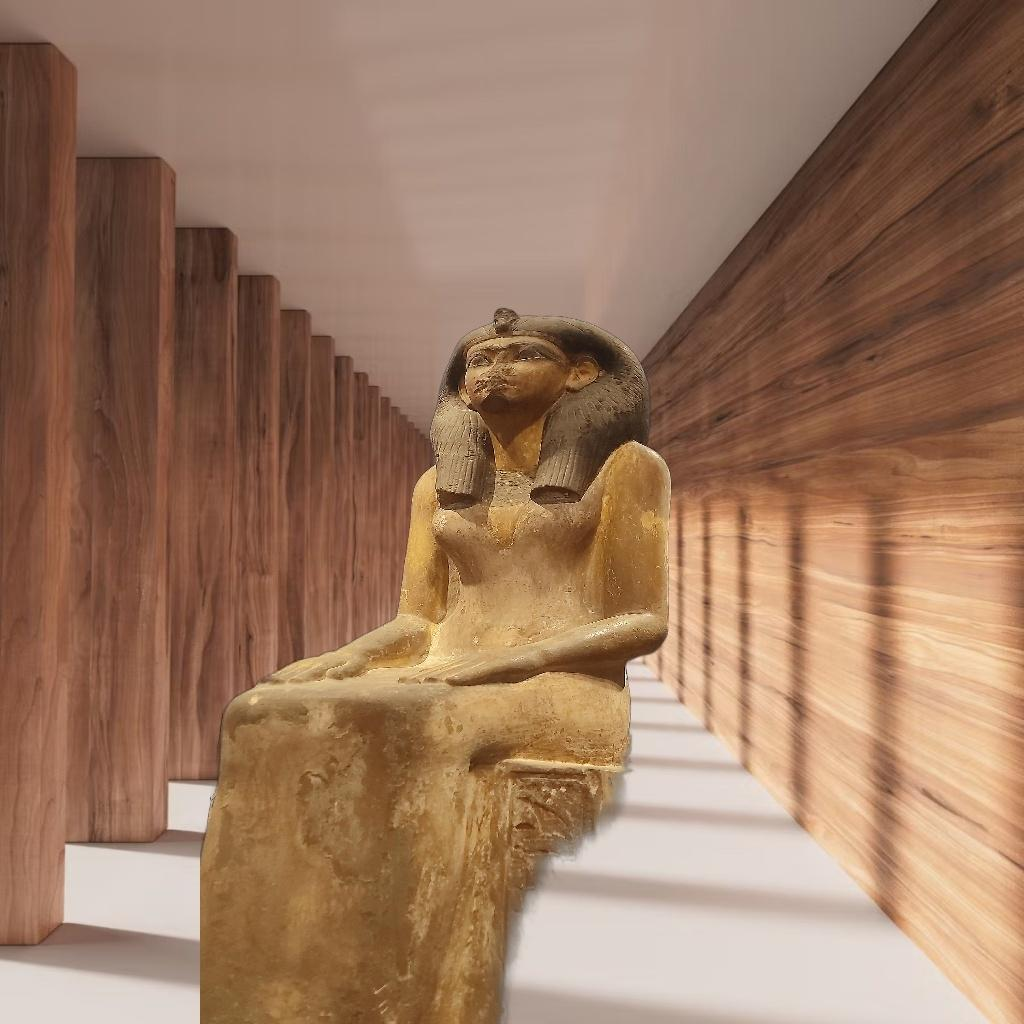Statue of Queen Metnoforet: (200, 305, 730, 1024)
